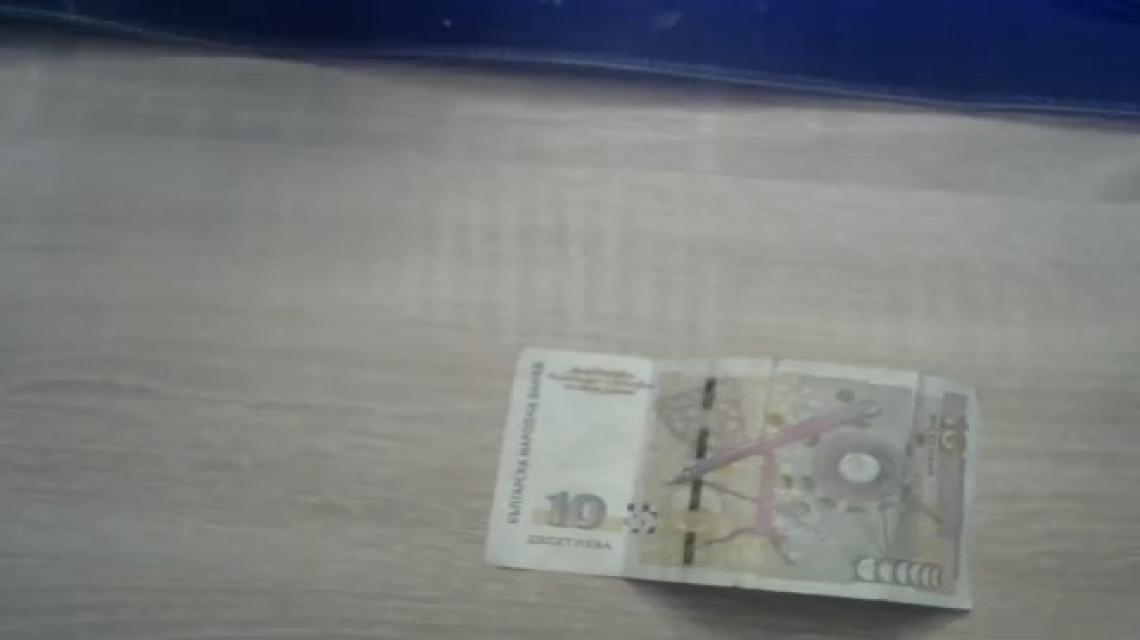10leva: (482, 348, 981, 612)
